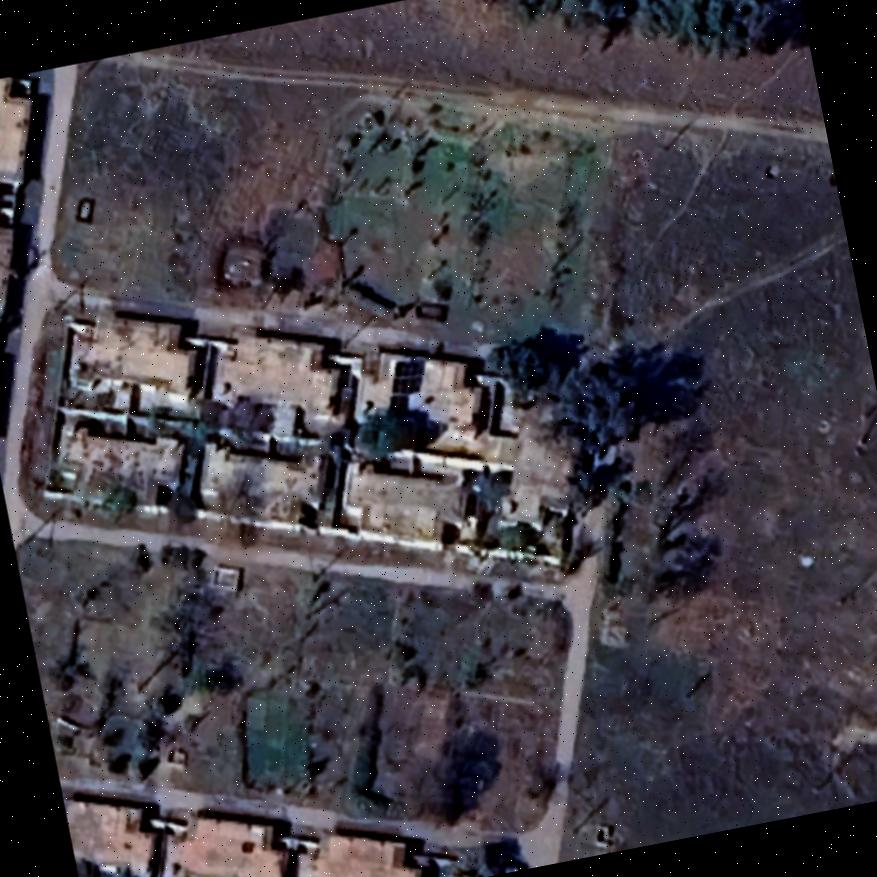Solarpanel: (388, 352, 426, 400)
